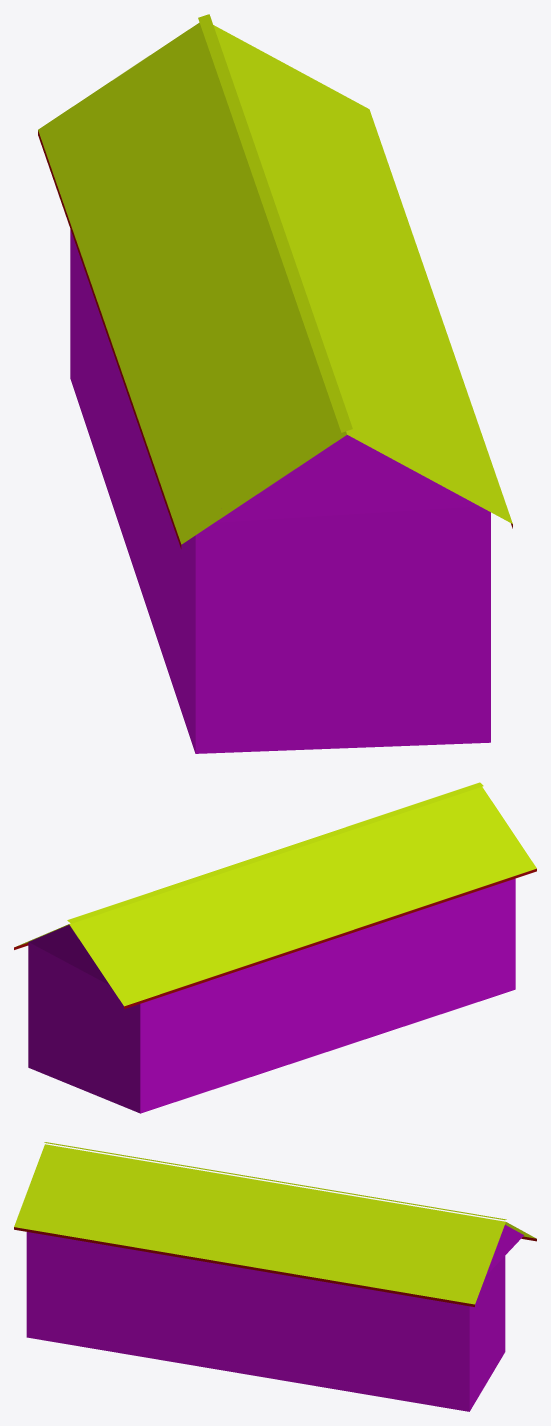
The picture shows the model from 3 angles, top to bottom: view 1: azimuth 30°, elevation 25°; view 2: azimuth 150°, elevation 25°; view 3: azimuth 270°, elevation 25°; orthographic projection. The views are drawn at different scales.
Parts seen in each view (by area): view 1: sc_17; view 2: sc_17; view 3: sc_17.
Part boxes in pixels (box(x1,y1,x2,y2)): sc_17: box(38, 14, 512, 753); sc_17: box(14, 782, 536, 1113); sc_17: box(14, 1142, 536, 1411).
Bounding box in the file's own units: 13.94 × 7.5 × 21.5.
